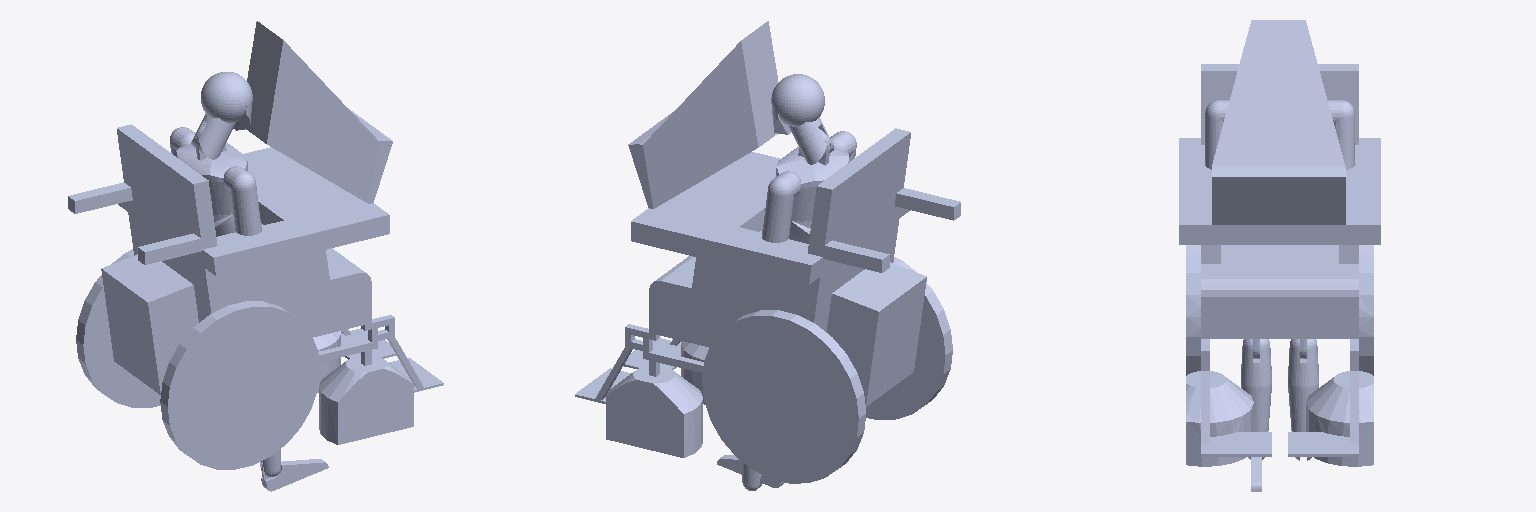
URDF robot description (wheelchair_henry):
<robot
  name="wheelchair_henry">
  <link
    name="wheelchair/base_link">
    <inertial>
      <origin
        xyz="0.53211 -9.4007E-05 0.52163"
        rpy="0 0 0" />
      <mass
        value="272.65" />
      <inertia
        ixx="34.793"
        ixy="-0.011261"
        ixz="-5.7617"
        iyy="44.037"
        iyz="-0.013729"
        izz="36.587" />
    </inertial>
    <visual>
      <origin
        xyz="0 0 0"
        rpy="0 0 0" />
      <geometry>
        <mesh
          filename="package://hrl_base_selection/urdf/wheelchair_henry/meshes/base_link.STL" />
      </geometry>
      <material
        name="">
        <color
          rgba="0.79216 0.81961 0.93333 1" />
      </material>
    </visual>
    <collision>
      <origin
        xyz="0 0 0"
        rpy="0 0 0" />
      <geometry>
        <mesh
          filename="package://wheelchair_henry/meshes/base_link.STL" />
      </geometry>
    </collision>
  </link>
  <link
    name="wheelchair/head_link">
    <visual>
      <origin
        xyz="0 0 0"
        rpy="0 0 0" />
      <geometry>
        <mesh
          filename="package://hrl_base_selection/urdf/wheelchair_henry/meshes/head_link.STL" />
      </geometry>
      <material
        name="">
        <color
          rgba="0.792156862745098 0.819607843137255 0.933333333333333 1" />
      </material>
    </visual>
    <collision>
      <origin
        xyz="0 0 0"
        rpy="0 0 0" />
      <geometry>
        <mesh
          filename="package://hrl_base_selection/urdf/wheelchair_henry/meshes/head_link.STL" />
      </geometry>
    </collision>
  </link>
  <joint
    name="wheelchair/origin_to_base_joint"
    type="fixed">
    <origin
      xyz="0.452 0.0 1.35"
      rpy="0. 0.1 0." />
    <parent
      link="wheelchair/base_link" />
    <child
      link="wheelchair/head_link" />
    <axis
      xyz="0 0 0" />
    <limit
      lower="-2"
      upper="2"
      effort="0"
      velocity="0" />
  </joint>
  <link
    name="wheelchair/neck_rotation">
    <visual>
      <origin
        xyz="0 0 0"
        rpy="0 0 0" />
      <geometry>
        <mesh
          filename="package://hrl_base_selection/urdf/wheelchair_henry/meshes/neck_link.STL" />
      </geometry>
      <material
        name="">
        <color
          rgba="0.792156862745098 0.819607843137255 0.933333333333333 1" />
      </material>
    </visual>
    <collision>
      <origin
        xyz="0 0 0"
        rpy="0 0 0" />
      <geometry>
        <mesh
          filename="package://hrl_base_selection/urdf/wheelchair_henry/meshes/neck_link.STL" />
      </geometry>
    </collision>
  </link>
  <joint
    name="wheelchair/head_neck_joint1"
    type="revolute">
    <origin
      xyz="-0.0254 0 -0.08509"
      rpy="-1.5708 1.1345 -3.1416" />
    <parent
      link="wheelchair/head_link" />
    <child
      link="wheelchair/neck_rotation" />
    <axis
      xyz="0 0 -1" />
    <limit
      lower="-2"
      upper="2"
      effort="0"
      velocity="0" />
  </joint>
  <link
    name="wheelchair/neck_link">
    <visual>
      <origin
        xyz="0 0 0"
        rpy="0 0 0" />
      <geometry>
        <mesh
          filename="package://hrl_base_selection/urdf/wheelchair_henry/meshes/neck_link.STL" />
      </geometry>
      <material
        name="">
        <color
          rgba="0.792156862745098 0.819607843137255 0.933333333333333 1" />
      </material>
    </visual>
    <collision>
      <origin
        xyz="0 0 0"
        rpy="0 0 0" />
      <geometry>
        <mesh
          filename="package://hrl_base_selection/urdf/wheelchair_henry/meshes/neck_link.STL" />
      </geometry>
    </collision>
  </link>
  <joint
    name="wheelchair/head_neck_joint2"
    type="revolute">
    <origin
      xyz="0 0 0"
      rpy="0 3.1554E-30 0" />
    <parent
      link="wheelchair/neck_rotation" />
    <child
      link="wheelchair/neck_link" />
    <axis
      xyz="0 0 1" />
    <limit
      lower="-2"
      upper="2"
      effort="0"
      velocity="0" />
  </joint>
  <link
    name="wheelchair/upper_body_link">
    <visual>
      <origin
        xyz="0 0 0"
        rpy="0 0 0" />
      <geometry>
        <mesh
          filename="package://hrl_base_selection/urdf/wheelchair_henry/meshes/upper_body_link.STL" />
      </geometry>
      <material
        name="">
        <color
          rgba="0.792156862745098 0.819607843137255 0.933333333333333 1" />
      </material>
    </visual>
    <collision>
      <origin
        xyz="0 0 0"
        rpy="0 0 0" />
      <geometry>
        <mesh
          filename="package://hrl_base_selection/urdf/wheelchair_henry/meshes/upper_body_link.STL" />
      </geometry>
    </collision>
  </link>
  <joint
    name="wheelchair/neck_body_joint"
    type="revolute">
    <origin
      xyz="0.07239 0 0"
      rpy="-8.8242E-17 -8.2927E-14 0.66506" />
    <parent
      link="wheelchair/neck_link" />
    <child
      link="wheelchair/upper_body_link" />
    <axis
      xyz="0 0 -1" />
    <limit
      lower="-2"
      upper="2"
      effort="0"
      velocity="0" />
  </joint>
  <link
    name="wheelchair/mid_body_link">
    <visual>
      <origin
        xyz="0 0 0"
        rpy="0 0 0" />
      <geometry>
        <mesh
          filename="package://hrl_base_selection/urdf/wheelchair_henry/meshes/mid_body_link.STL" />
      </geometry>
      <material
        name="">
        <color
          rgba="0.792156862745098 0.819607843137255 0.933333333333333 1" />
      </material>
    </visual>
    <collision>
      <origin
        xyz="0 0 0"
        rpy="0 0 0" />
      <geometry>
        <mesh
          filename="package://hrl_base_selection/urdf/wheelchair_henry/meshes/mid_body_link.STL" />
      </geometry>
    </collision>
  </link>
  <joint
    name="wheelchair/upper_mid_body_joint"
    type="revolute">
    <origin
      xyz="0.35052 0 0"
      rpy="2.8327E-14 7.7949E-14 0.34907" />
    <parent
      link="wheelchair/upper_body_link" />
    <child
      link="wheelchair/mid_body_link" />
    <axis
      xyz="0 0 -1" />
    <limit
      lower="-2"
      upper="2"
      effort="0"
      velocity="0" />
  </joint>
  <link
    name="wheelchair/lower_body_link">
    <visual>
      <origin
        xyz="0 0 0"
        rpy="0 0 0" />
      <geometry>
        <mesh
          filename="package://hrl_base_selection/urdf/wheelchair_henry/meshes/lower_body_link.STL" />
      </geometry>
      <material
        name="">
        <color
          rgba="0.792156862745098 0.819607843137255 0.933333333333333 1" />
      </material>
    </visual>
    <collision>
      <origin
        xyz="0 0 0"
        rpy="0 0 0" />
      <geometry>
        <mesh
          filename="package://hrl_base_selection/urdf/wheelchair_henry/meshes/lower_body_link.STL" />
      </geometry>
    </collision>
  </link>
  <joint
    name="wheelchair/mid_lower_body_joint"
    type="revolute">
    <origin
      xyz="0.15113 0 0"
      rpy="-4.3091E-16 1.669E-15 -0.57779" />
    <parent
      link="wheelchair/mid_body_link" />
    <child
      link="wheelchair/lower_body_link" />
    <axis
      xyz="0 0 -1" />
    <limit
      lower="-2"
      upper="2"
      effort="0"
      velocity="0" />
  </joint>
  <link
    name="wheelchair/quad_left_link">
    <visual>
      <origin
        xyz="0 0 0"
        rpy="0 0 0" />
      <geometry>
        <mesh
          filename="package://hrl_base_selection/urdf/wheelchair_henry/meshes/quad_left_link.STL" />
      </geometry>
      <material
        name="">
        <color
          rgba="0.792156862745098 0.819607843137255 0.933333333333333 1" />
      </material>
    </visual>
    <collision>
      <origin
        xyz="0 0 0"
        rpy="0 0 0" />
      <geometry>
        <mesh
          filename="package://hrl_base_selection/urdf/wheelchair_henry/meshes/quad_left_link.STL" />
      </geometry>
    </collision>
  </link>
  <joint
    name="wheelchair/body_quad_left_joint"
    type="revolute">
    <origin
      xyz="0.05207 0 -0.08636"
      rpy="-3.1554E-30 -3.1554E-30 -2.7756E-17" />
    <parent
      link="wheelchair/lower_body_link" />
    <child
      link="wheelchair/quad_left_link" />
    <axis
      xyz="0 0 1" />
    <limit
      lower="-3."
      upper="3."
      effort="0"
      velocity="0" />
  </joint>
  <link
    name="wheelchair/calf_left_link">
    <visual>
      <origin
        xyz="0 0 0"
        rpy="0 0 0" />
      <geometry>
        <mesh
          filename="package://hrl_base_selection/urdf/wheelchair_henry/meshes/calf_left_link.STL" />
      </geometry>
      <material
        name="">
        <color
          rgba="0.792156862745098 0.819607843137255 0.933333333333333 1" />
      </material>
    </visual>
    <collision>
      <origin
        xyz="0 0 0"
        rpy="0 0 0" />
      <geometry>
        <mesh
          filename="package://hrl_base_selection/urdf/wheelchair_henry/meshes/calf_left_link.STL" />
      </geometry>
    </collision>
  </link>
  <joint
    name="wheelchair/quad_calf_left_joint"
    type="revolute">
    <origin
      xyz="0.41218 0.11044 0"
      rpy="3.1416 8.5469E-14 -2.8798" />
    <parent
      link="wheelchair/quad_left_link" />
    <child
      link="wheelchair/calf_left_link" />
    <axis
      xyz="0 0 1" />
    <limit
      lower="-3."
      upper="3."
      effort="0"
      velocity="0" />
  </joint>
  <link
    name="wheelchair/foot_left_link">
    <visual>
      <origin
        xyz="0 0 0"
        rpy="0 0 0" />
      <geometry>
        <mesh
          filename="package://hrl_base_selection/urdf/wheelchair_henry/meshes/foot_left_link.STL" />
      </geometry>
      <material
        name="">
        <color
          rgba="0.792156862745098 0.819607843137255 0.933333333333333 1" />
      </material>
    </visual>
    <collision>
      <origin
        xyz="0 0 0"
        rpy="0 0 0" />
      <geometry>
        <mesh
          filename="package://hrl_base_selection/urdf/wheelchair_henry/meshes/foot_left_link.STL" />
      </geometry>
    </collision>
  </link>
  <joint
    name="wheelchair/calf_foot_left_joint"
    type="revolute">
    <origin
      xyz="-0.41279 -0.03188 0"
      rpy="2.4608E-16 9.411E-16 0.077076" />
    <parent
      link="wheelchair/calf_left_link" />
    <child
      link="wheelchair/foot_left_link" />
    <axis
      xyz="0 0 1" />
    <limit
      lower="-3."
      upper="3."
      effort="0"
      velocity="0" />
  </joint>
  <link
    name="wheelchair/quad_right_link">
    <visual>
      <origin
        xyz="0 0 0"
        rpy="0 0 0" />
      <geometry>
        <mesh
          filename="package://hrl_base_selection/urdf/wheelchair_henry/meshes/quad_right_link.STL" />
      </geometry>
      <material
        name="">
        <color
          rgba="0.792156862745098 0.819607843137255 0.933333333333333 1" />
      </material>
    </visual>
    <collision>
      <origin
        xyz="0 0 0"
        rpy="0 0 0" />
      <geometry>
        <mesh
          filename="package://hrl_base_selection/urdf/wheelchair_henry/meshes/quad_right_link.STL" />
      </geometry>
    </collision>
  </link>
  <joint
    name="wheelchair/body_quad_right_joint"
    type="revolute">
    <origin
      xyz="0.05207 0 0.08636"
      rpy="-3.1554E-30 -3.1554E-30 -2.7756E-17" />
    <parent
      link="wheelchair/lower_body_link" />
    <child
      link="wheelchair/quad_right_link" />
    <axis
      xyz="0 0 1" />
    <limit
      lower="-3"
      upper="3"
      effort="0"
      velocity="0" />
  </joint>
  <link
    name="wheelchair/calf_right_link">
    <visual>
      <origin
        xyz="0 0 0"
        rpy="0 0 0" />
      <geometry>
        <mesh
          filename="package://hrl_base_selection/urdf/wheelchair_henry/meshes/calf_right_link.STL" />
      </geometry>
      <material
        name="">
        <color
          rgba="0.792156862745098 0.819607843137255 0.933333333333333 1" />
      </material>
    </visual>
    <collision>
      <origin
        xyz="0 0 0"
        rpy="0 0 0" />
      <geometry>
        <mesh
          filename="package://hrl_base_selection/urdf/wheelchair_henry/meshes/calf_right_link.STL" />
      </geometry>
    </collision>
  </link>
  <joint
    name="wheelchair/quad_calf_right_joint"
    type="revolute">
    <origin
      xyz="0.41218 0.11044 0"
      rpy="3.1416 8.5225E-14 -2.8798" />
    <parent
      link="wheelchair/quad_right_link" />
    <child
      link="wheelchair/calf_right_link" />
    <axis
      xyz="0 0 1" />
    <limit
      lower="-3"
      upper="3"
      effort="0"
      velocity="0" />
  </joint>
  <link
    name="wheelchair/foot_right_link">
    <visual>
      <origin
        xyz="0 0 0"
        rpy="0 0 0" />
      <geometry>
        <mesh
          filename="package://hrl_base_selection/urdf/wheelchair_henry/meshes/foot_right_link.STL" />
      </geometry>
      <material
        name="">
        <color
          rgba="0.792156862745098 0.819607843137255 0.933333333333333 1" />
      </material>
    </visual>
    <collision>
      <origin
        xyz="0 0 0"
        rpy="0 0 0" />
      <geometry>
        <mesh
          filename="package://hrl_base_selection/urdf/wheelchair_henry/meshes/foot_right_link.STL" />
      </geometry>
    </collision>
  </link>
  <joint
    name="wheelchair/calf_foot_right_joint"
    type="revolute">
    <origin
      xyz="-0.41279 -0.03188 0"
      rpy="3.3137E-27 3.7799E-26 0.077076" />
    <parent
      link="wheelchair/calf_right_link" />
    <child
      link="wheelchair/foot_right_link" />
    <axis
      xyz="0 0 1" />
    <limit
      lower="-3"
      upper="3"
      effort="0"
      velocity="0" />
  </joint>
  <link
    name="wheelchair/arm_left_link">
    <visual>
      <origin
        xyz="0 0 0"
        rpy="0 0 0" />
      <geometry>
        <mesh
          filename="package://hrl_base_selection/urdf/wheelchair_henry/meshes/arm_left_link.STL" />
      </geometry>
      <material
        name="">
        <color
          rgba="0.792156862745098 0.819607843137255 0.933333333333333 1" />
      </material>
    </visual>
    <collision>
      <origin
        xyz="0 0 0"
        rpy="0 0 0" />
      <geometry>
        <mesh
          filename="package://hrl_base_selection/urdf/wheelchair_henry/meshes/arm_left_link.STL" />
      </geometry>
    </collision>
  </link>
  <joint
    name="wheelchair/body_arm_left_joint"
    type="revolute">
    <origin
      xyz="0.09652 0 -0.17526"
      rpy="2.6872E-15 8.287E-14 0.033074" />
    <parent
      link="wheelchair/upper_body_link" />
    <child
      link="wheelchair/arm_left_link" />
    <axis
      xyz="0 0 1" />
    <limit
      lower="-3"
      upper="3"
      effort="0"
      velocity="0" />
  </joint>
  <link
    name="wheelchair/forearm_left_link">
    <visual>
      <origin
        xyz="0 0 0"
        rpy="0 0 0" />
      <geometry>
        <mesh
          filename="package://hrl_base_selection/urdf/wheelchair_henry/meshes/forearm_left_link.STL" />
      </geometry>
      <material
        name="">
        <color
          rgba="0.792156862745098 0.819607843137255 0.933333333333333 1" />
      </material>
    </visual>
    <collision>
      <origin
        xyz="0 0 0"
        rpy="0 0 0" />
      <geometry>
        <mesh
          filename="package://hrl_base_selection/urdf/wheelchair_henry/meshes/forearm_left_link.STL" />
      </geometry>
    </collision>
  </link>
  <joint
    name="wheelchair/arm_forearm_left_joint"
    type="revolute">
    <origin
      xyz="0.28174 -0.0106 -0.04953"
      rpy="1.1849E-16 -8.3419E-14 -1.6268E-27" />
    <parent
      link="wheelchair/arm_left_link" />
    <child
      link="wheelchair/forearm_left_link" />
    <axis
      xyz="0 0 1" />
    <limit
      lower="-3"
      upper="3"
      effort="0"
      velocity="0" />
  </joint>
  <link
    name="wheelchair/hand_left_link">
    <visual>
      <origin
        xyz="0 0 0"
        rpy="0 0 0" />
      <geometry>
        <mesh
          filename="package://hrl_base_selection/urdf/wheelchair_henry/meshes/hand_left_link.STL" />
      </geometry>
      <material
        name="">
        <color
          rgba="0.792156862745098 0.819607843137255 0.933333333333333 1" />
      </material>
    </visual>
    <collision>
      <origin
        xyz="0 0 0"
        rpy="0 0 0" />
      <geometry>
        <mesh
          filename="package://hrl_base_selection/urdf/wheelchair_henry/meshes/hand_left_link.STL" />
      </geometry>
    </collision>
  </link>
  <joint
    name="wheelchair/forearm_hand_left_joint"
    type="revolute">
    <origin
      xyz="0.25146 0 0"
      rpy="1.3447E-16 8.3999E-14 1.6283E-27" />
    <parent
      link="wheelchair/forearm_left_link" />
    <child
      link="wheelchair/hand_left_link" />
    <axis
      xyz="0 0 1" />
    <limit
      lower="-3"
      upper="3"
      effort="0"
      velocity="0" />
  </joint>
  <link
    name="wheelchair/arm_right_link">
    <visual>
      <origin
        xyz="0 0 0"
        rpy="0 0 0" />
      <geometry>
        <mesh
          filename="package://hrl_base_selection/urdf/wheelchair_henry/meshes/arm_right_link.STL" />
      </geometry>
      <material
        name="">
        <color
          rgba="0.792156862745098 0.819607843137255 0.933333333333333 1" />
      </material>
    </visual>
    <collision>
      <origin
        xyz="0 0 0"
        rpy="0 0 0" />
      <geometry>
        <mesh
          filename="package://hrl_base_selection/urdf/wheelchair_henry/meshes/arm_right_link.STL" />
      </geometry>
    </collision>
  </link>
  <joint
    name="wheelchair/body_arm_right_joint"
    type="revolute">
    <origin
      xyz="0.09652 0 0.17526"
      rpy="-3.0757E-16 8.2843E-14 -0.0045332" />
    <parent
      link="wheelchair/upper_body_link" />
    <child
      link="wheelchair/arm_right_link" />
    <axis
      xyz="0 0 1" />
    <limit
      lower="-3"
      upper="3"
      effort="0"
      velocity="0" />
  </joint>
  <link
    name="wheelchair/forearm_right_link">
    <visual>
      <origin
        xyz="0 0 0"
        rpy="0 0 0" />
      <geometry>
        <mesh
          filename="package://hrl_base_selection/urdf/wheelchair_henry/meshes/forearm_right_link.STL" />
      </geometry>
      <material
        name="">
        <color
          rgba="0.792156862745098 0.819607843137255 0.933333333333333 1" />
      </material>
    </visual>
    <collision>
      <origin
        xyz="0 0 0"
        rpy="0 0 0" />
      <geometry>
        <mesh
          filename="package://hrl_base_selection/urdf/wheelchair_henry/meshes/forearm_right_link.STL" />
      </geometry>
    </collision>
  </link>
  <joint
    name="wheelchair/arm_forearm_right_joint"
    type="revolute">
    <origin
      xyz="0.28194 0 0.04953"
      rpy="2.6089E-19 -8.3342E-14 0.037607" />
    <parent
      link="wheelchair/arm_right_link" />
    <child
      link="wheelchair/forearm_right_link" />
    <axis
      xyz="0 0 1" />
    <limit
      lower="-3"
      upper="3"
      effort="0"
      velocity="0" />
  </joint>
  <link
    name="wheelchair/hand_right_link">
    <visual>
      <origin
        xyz="0 0 0"
        rpy="0 0 0" />
      <geometry>
        <mesh
          filename="package://hrl_base_selection/urdf/wheelchair_henry/meshes/hand_right_link.STL" />
      </geometry>
      <material
        name="">
        <color
          rgba="0.792156862745098 0.819607843137255 0.933333333333333 1" />
      </material>
    </visual>
    <collision>
      <origin
        xyz="0 0 0"
        rpy="0 0 0" />
      <geometry>
        <mesh
          filename="package://hrl_base_selection/urdf/wheelchair_henry/meshes/hand_right_link.STL" />
      </geometry>
    </collision>
  </link>
  <joint
    name="wheelchair/forearm_hand_right_joint"
    type="revolute">
    <origin
      xyz="0.25146 0 0"
      rpy="1.9364E-14 8.3335E-14 1.6151E-27" />
    <parent
      link="wheelchair/forearm_right_link" />
    <child
      link="wheelchair/hand_right_link" />
    <axis
      xyz="0 0 1" />
    <limit
      lower="-3"
      upper="3"
      effort="0"
      velocity="0" />
  </joint>

</robot>

--- Facts derived from the render (not from the file) ---
The picture shows the robot from 3 angles, left to right: view 1: azimuth 30°, elevation 25°; view 2: azimuth 150°, elevation 25°; view 3: azimuth 270°, elevation 25°; orthographic projection.
Robot: wheelchair_henry — 19 links, 18 joints (17 revolute, 1 fixed); root link wheelchair/base_link; default pose: every joint at zero.
Visible links, largest first — view 1: wheelchair/base_link, wheelchair/head_link, wheelchair/upper_body_link, wheelchair/arm_right_link, wheelchair/foot_right_link, wheelchair/neck_rotation; view 2: wheelchair/base_link, wheelchair/head_link, wheelchair/upper_body_link, wheelchair/arm_left_link, wheelchair/neck_rotation; view 3: wheelchair/base_link, wheelchair/calf_left_link, wheelchair/calf_right_link, wheelchair/arm_left_link, wheelchair/arm_right_link.
Boxes of the visible links, bbox=[...] form: wheelchair/base_link: bbox=[68, 21, 443, 469]; wheelchair/head_link: bbox=[201, 72, 252, 130]; wheelchair/upper_body_link: bbox=[177, 125, 247, 221]; wheelchair/arm_right_link: bbox=[223, 166, 261, 235]; wheelchair/foot_right_link: bbox=[261, 459, 328, 491]; wheelchair/neck_rotation: bbox=[191, 114, 235, 159]; wheelchair/base_link: bbox=[575, 21, 960, 483]; wheelchair/head_link: bbox=[771, 74, 824, 134]; wheelchair/upper_body_link: bbox=[776, 129, 848, 228]; wheelchair/arm_left_link: bbox=[762, 171, 801, 242]; wheelchair/neck_rotation: bbox=[789, 117, 833, 164]; wheelchair/base_link: bbox=[1179, 20, 1380, 466]; wheelchair/calf_left_link: bbox=[1288, 339, 1318, 460]; wheelchair/calf_right_link: bbox=[1241, 339, 1271, 459]; wheelchair/arm_left_link: bbox=[1328, 100, 1354, 169]; wheelchair/arm_right_link: bbox=[1205, 100, 1229, 169].
Size in the robot's own frame: 1.29 by 0.74 by 1.85 metres.
Meshes: 18 distinct files referenced, 17 mesh visuals loaded (16 binary STL); not drawn: 2 (reference not matched to a file when rendering).
